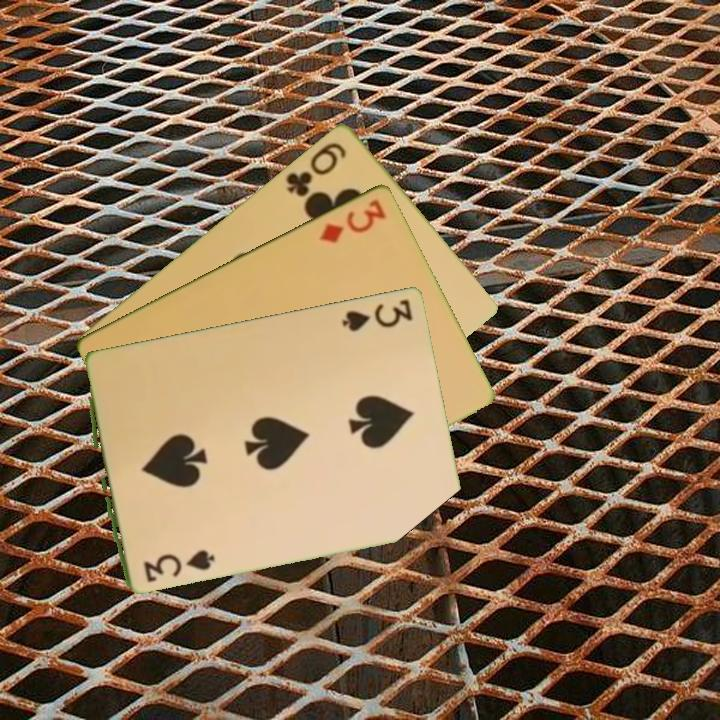3d: (315, 195, 389, 246)
3s: (338, 295, 416, 334), (140, 545, 214, 585)
6c: (282, 138, 350, 200)
